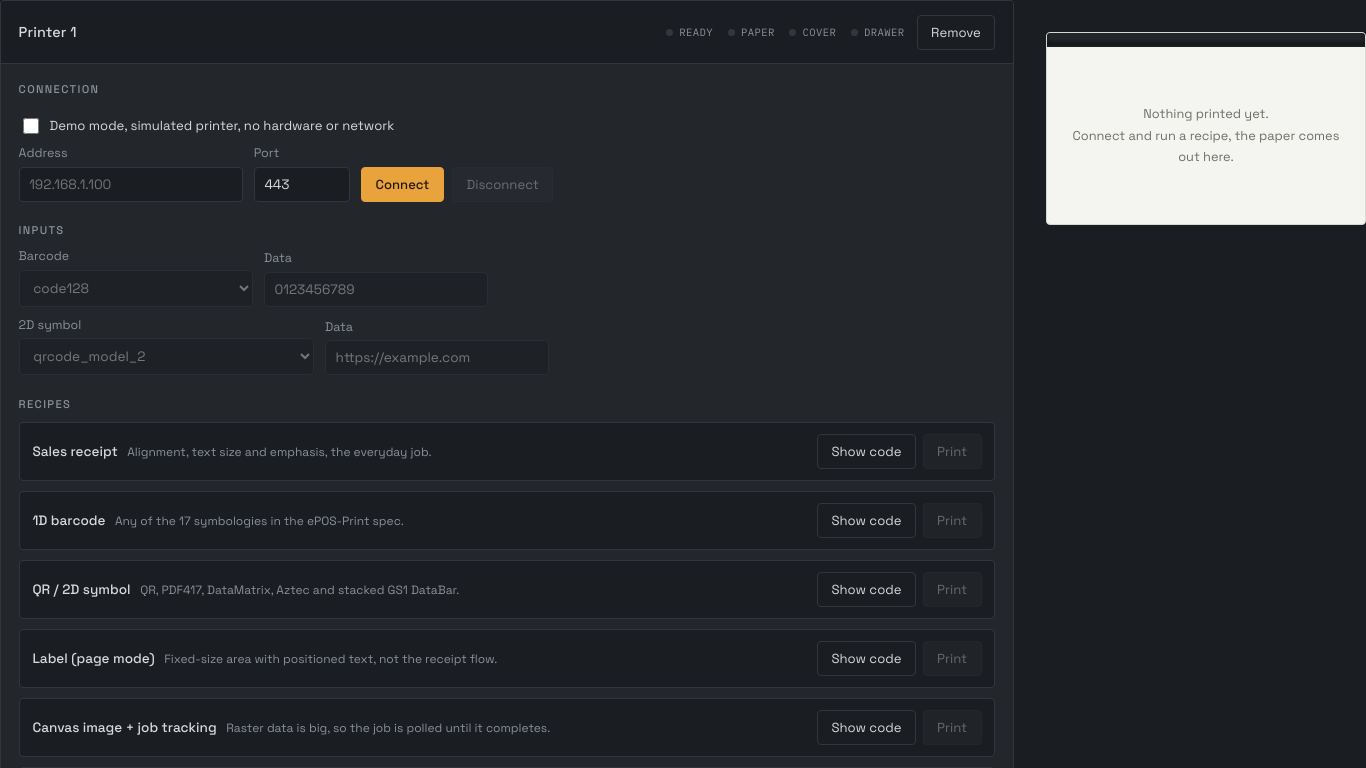
Test: demo flow › shows the raw ePOS-Print XML behind a printed receipt
Click the checkbox labelled "Demo mode, simulated printer, no hardware or network".
click(31, 126)  # box [23,118,39,134]
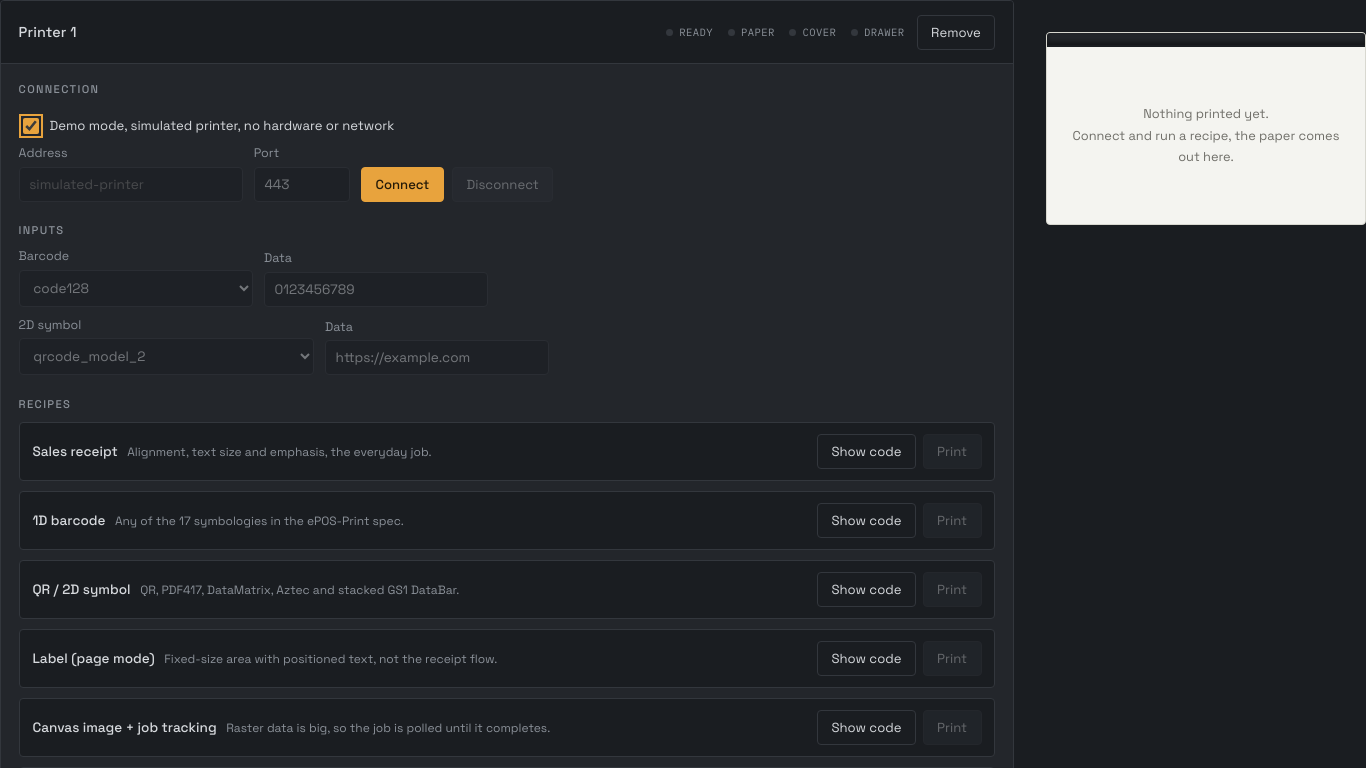
Click the button "Connect".
click(402, 184)  # box [361,167,444,202]
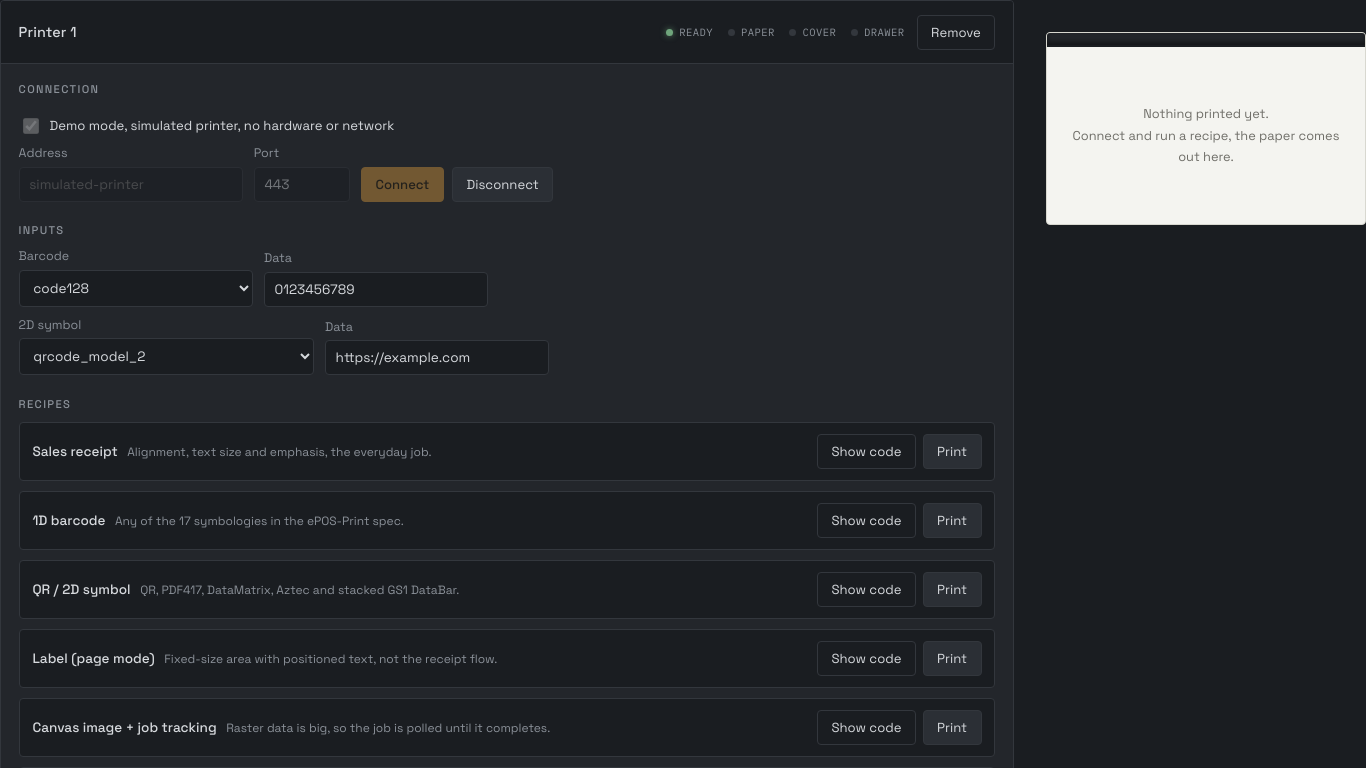
Check: the button "Disconnect" is enabled, box [452,167,553,202]
Click the button "Print" in the row of "Sales receipt".
click(952, 452)  # box [922,434,982,469]
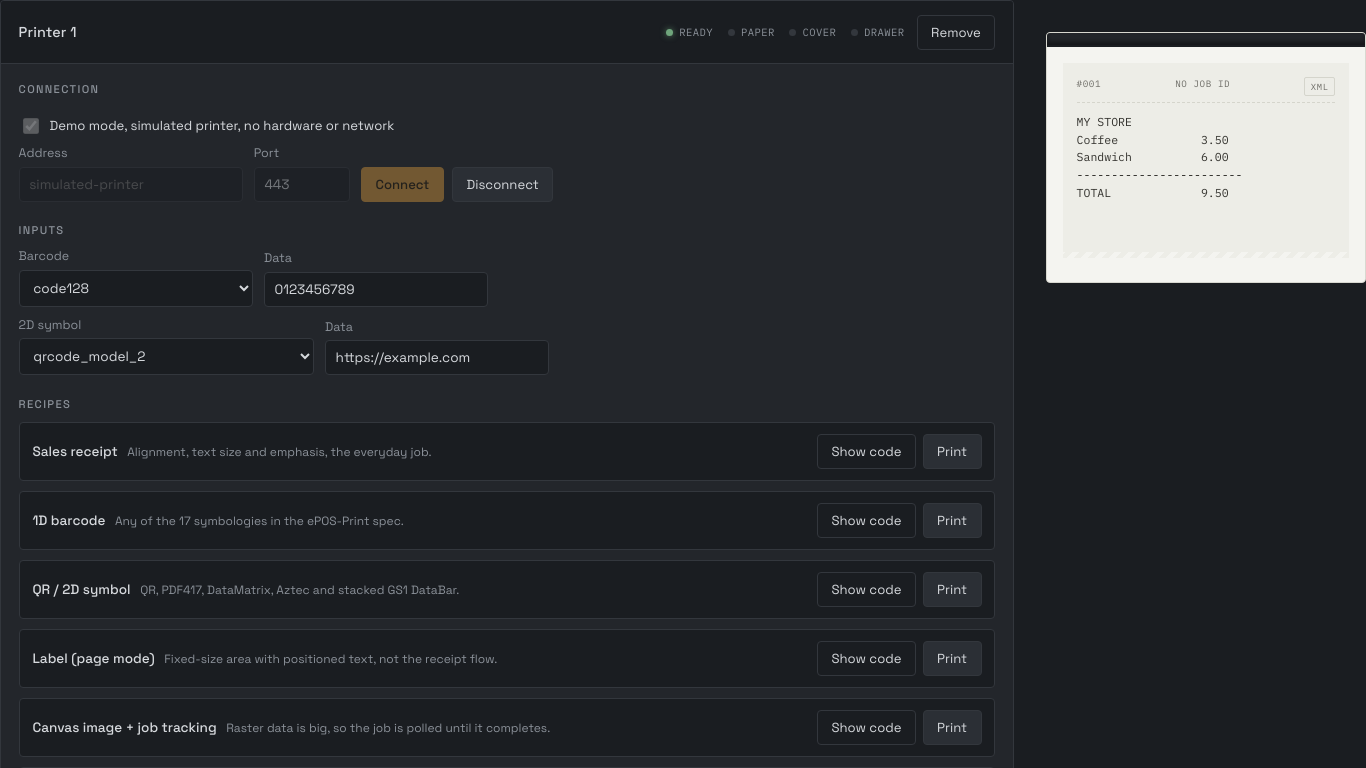
Click the button "XML".
click(1320, 86)  # box [1304,77,1335,96]
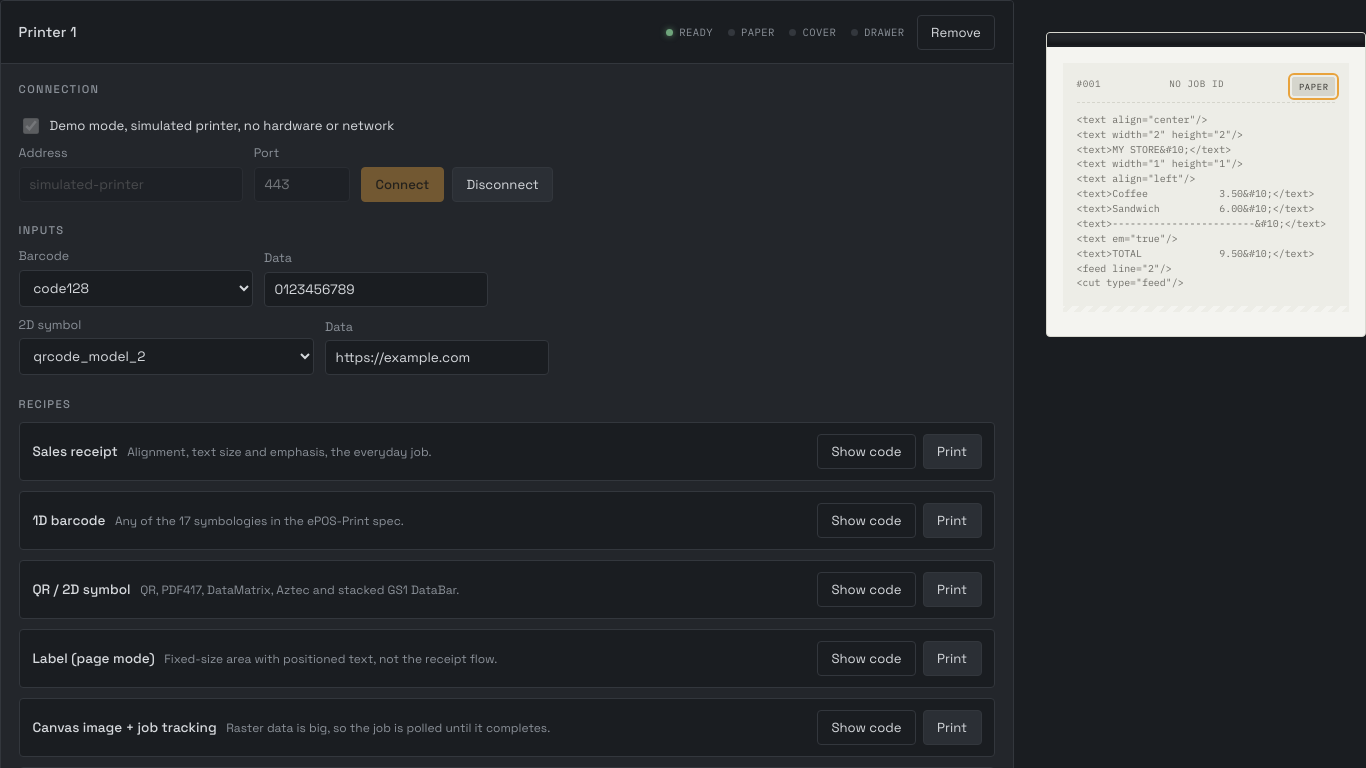
Check: the element named "Receipt 1" shows "<text align=\"center\"/>", box [1077,113,1326,289]
Check: the element named "Receipt 1" shows "<cut type=\"feed\"/>", box [1077,113,1326,289]
